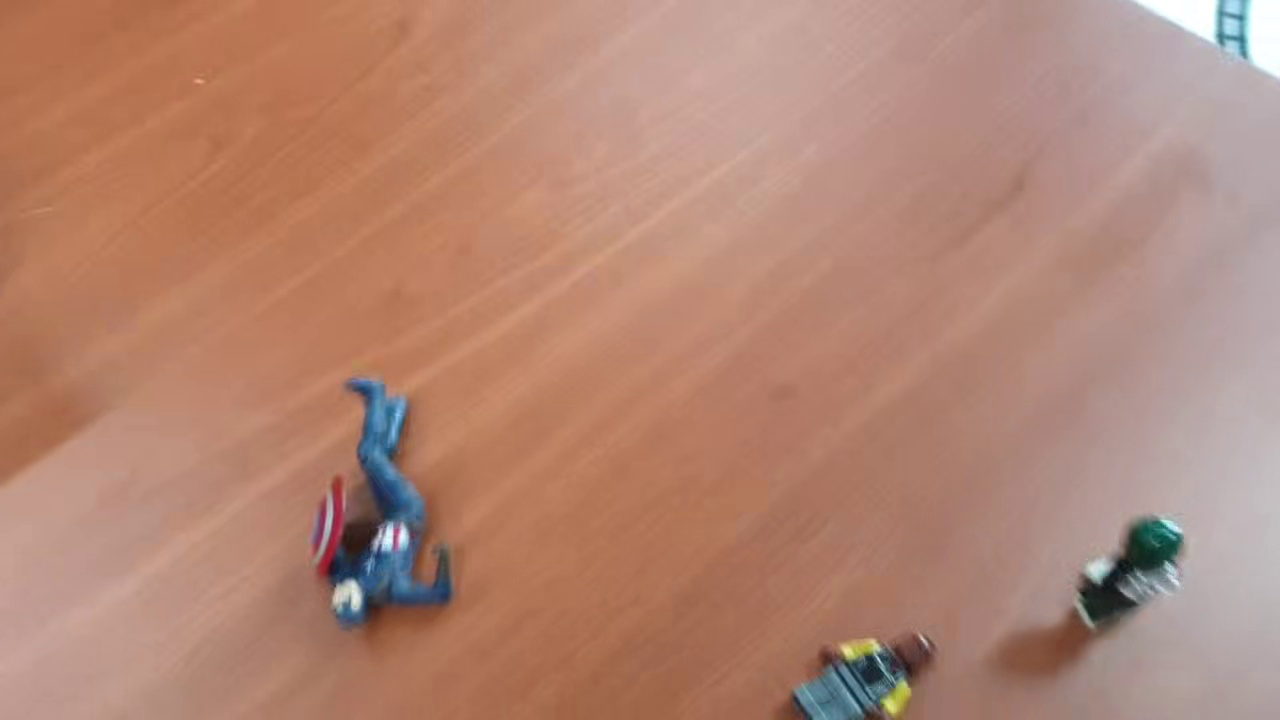people: (309, 375, 460, 633), (1067, 510, 1183, 634), (789, 630, 944, 719)
